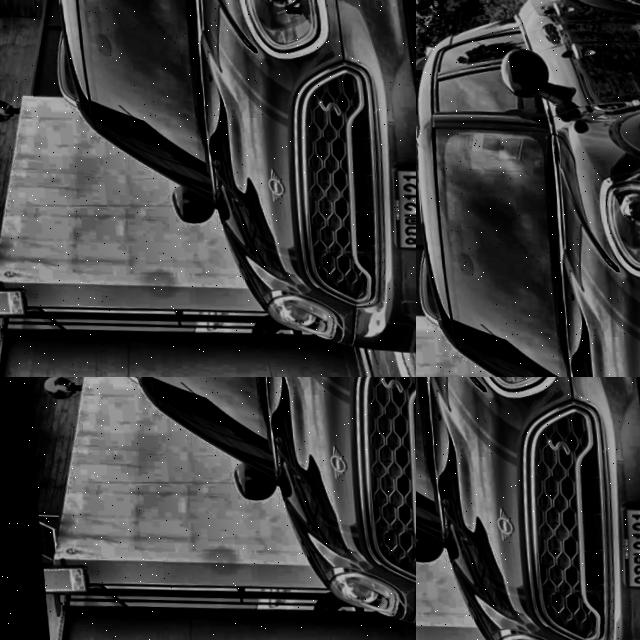license-plate: (32, 564, 90, 640), (601, 497, 640, 585), (0, 271, 33, 372)
